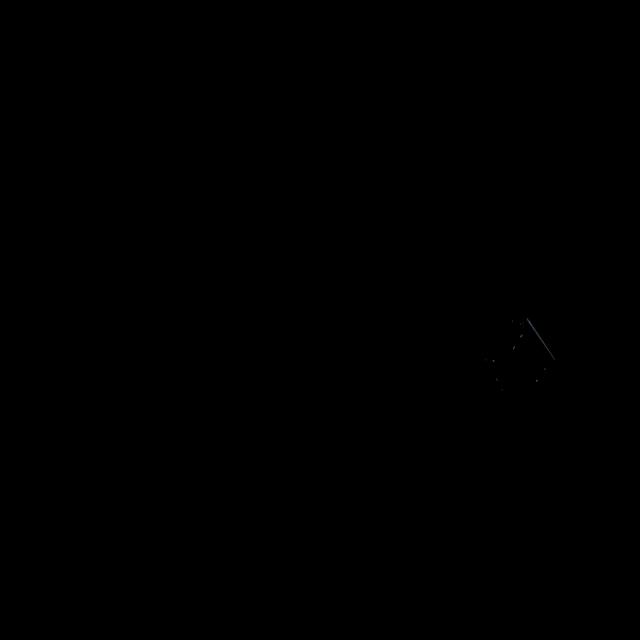medium_debris: (486, 316, 575, 406)
